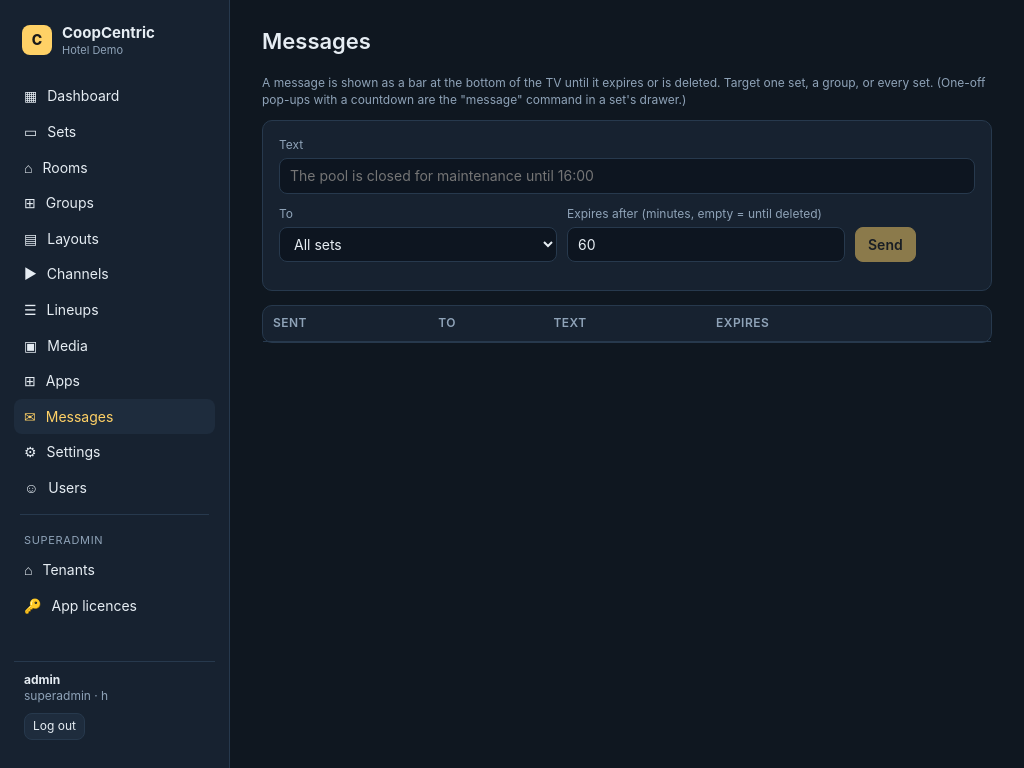
Test: step 5 pages › messages: send to all and take down
Type "Pool closed" into the field named "Message text" at (627, 176), box [279, 158, 975, 194]
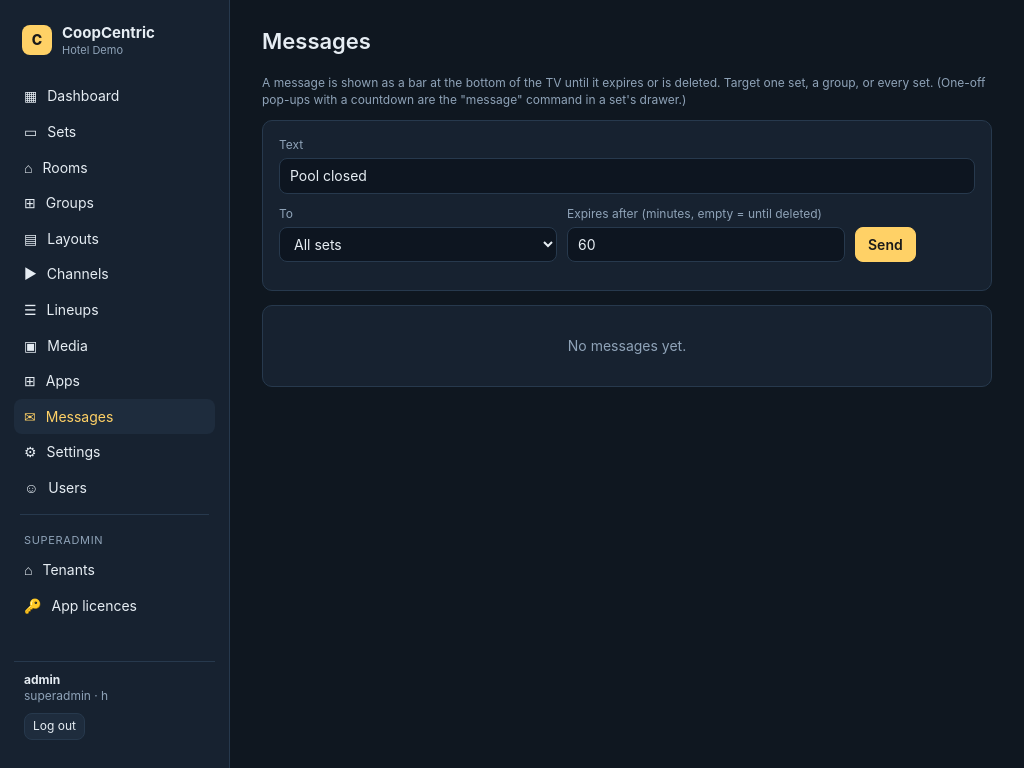
Click the button "Send" at (885, 244), box [855, 227, 916, 262]
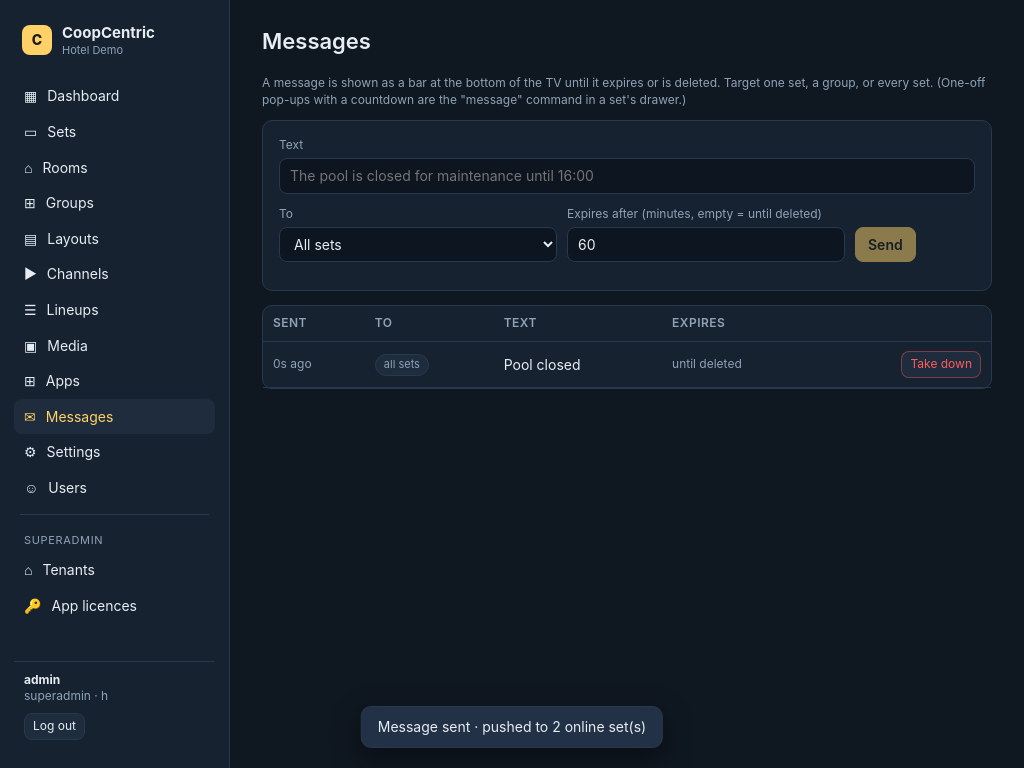
Now the text "Pool closed" is shown, box [494, 342, 662, 387]
Click the button "Take down" at (941, 364), box [902, 351, 981, 378]
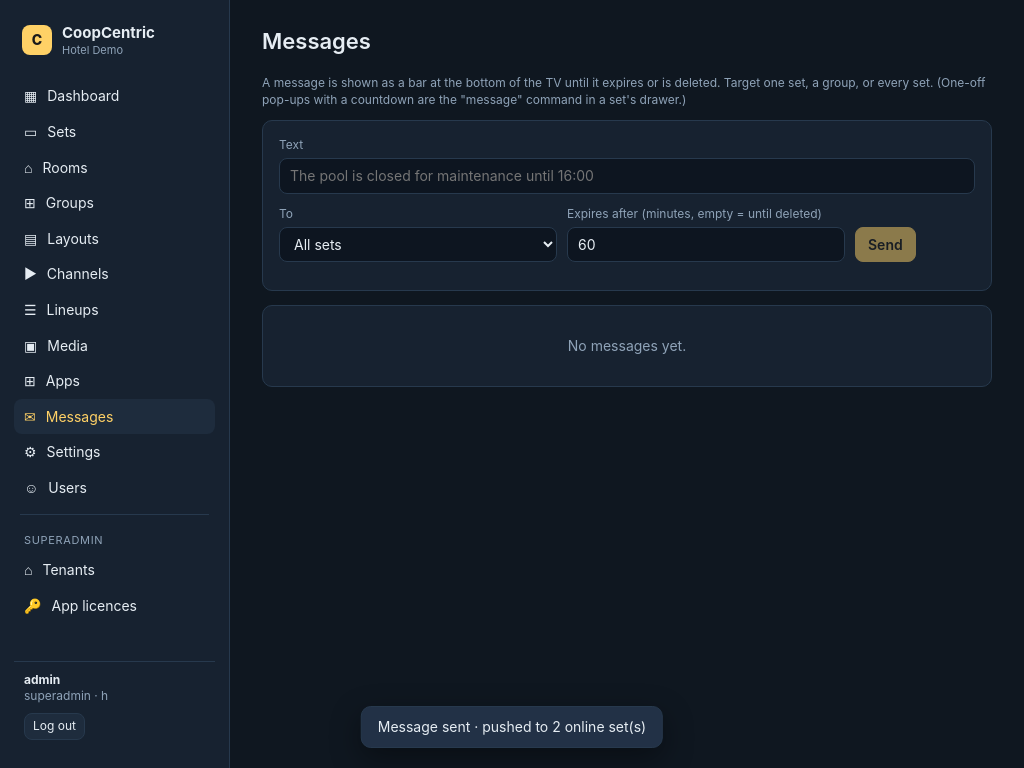
Now the text "Pool closed" is gone
